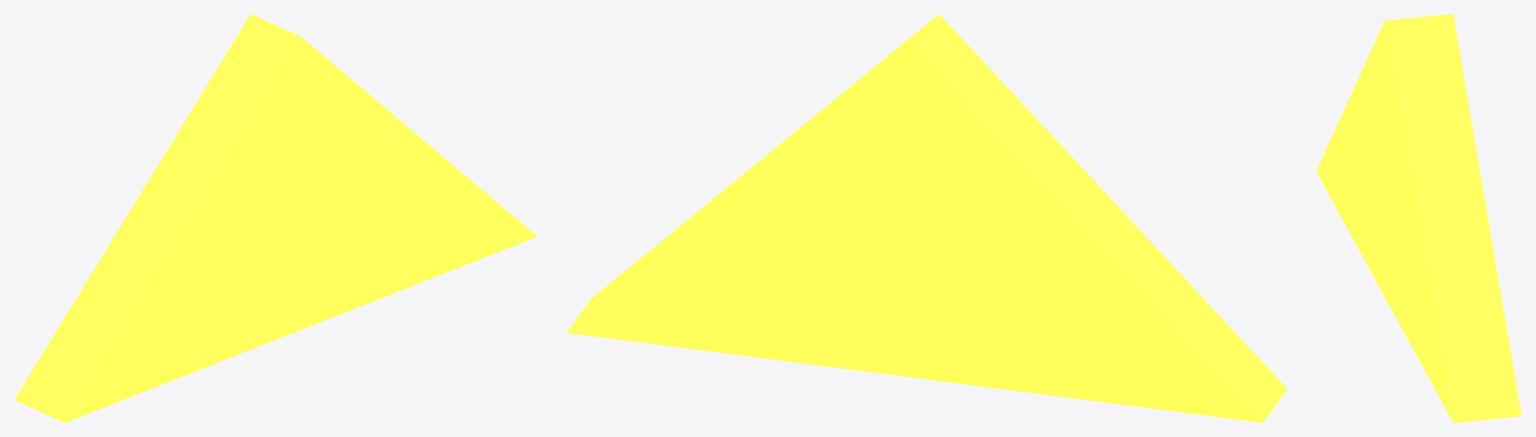
The model's file is arrow_03_pipa3.fbx.
The picture shows the model from 3 angles, left to right: view 1: azimuth 30°, elevation 25°; view 2: azimuth 150°, elevation 25°; view 3: azimuth 270°, elevation 25°; orthographic projection. The views are drawn at different scales.
Visible parts, largest first — view 1: Cube.039; view 2: Cube.039; view 3: Cube.039.
Boxes of the visible parts, x1,y1,x2,y2 form: Cube.039: (14, 14, 537, 422); Cube.039: (566, 14, 1287, 422); Cube.039: (1316, 14, 1521, 422).
Bounding box in the file's own units: 5.83 × 2.92 × 1.96.
